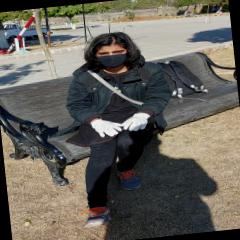gloved: (92, 118, 120, 138), (122, 112, 150, 131)
